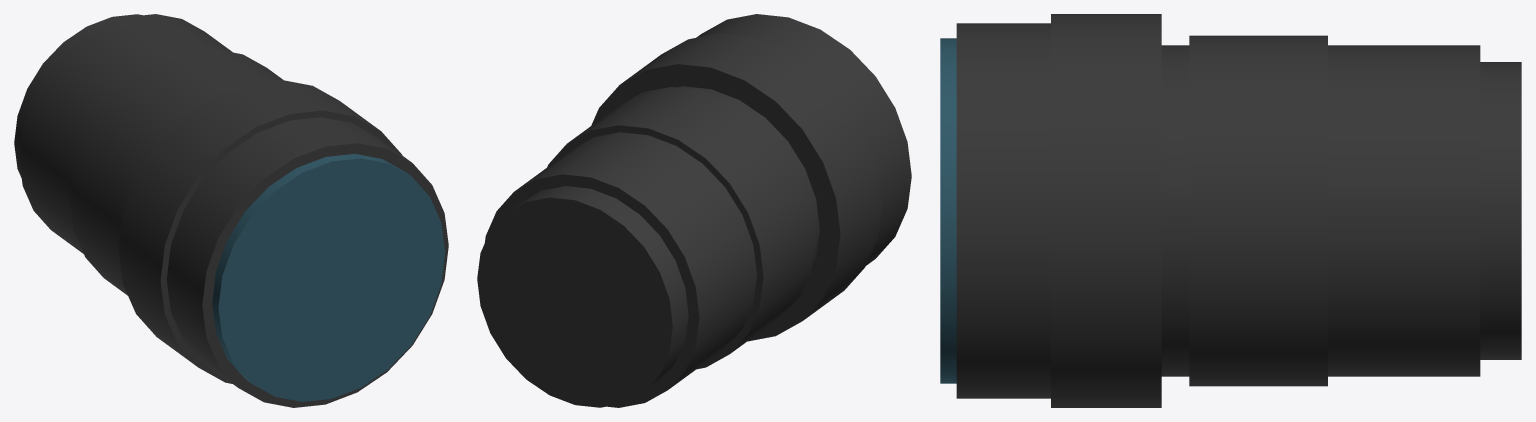
Rendered from ET-ELS20.glb.
3 views of the same model, side by side, from view 1: azimuth 30°, elevation 25°; view 2: azimuth 150°, elevation 25°; view 3: azimuth 270°, elevation 25° (orthographic). The views are drawn at different scales.
Visible parts, largest first — view 1: Lens_Barrel, Lens_Glass; view 2: Lens_Barrel; view 3: Lens_Barrel, Lens_Glass.
Boxes of the visible parts, x1,y1,x2,y2 form: Lens_Barrel: (14,14,448,407); Lens_Glass: (212,154,445,401); Lens_Barrel: (477,14,911,407); Lens_Barrel: (956,14,1521,407); Lens_Glass: (940,38,956,383).
Size of the model in its own units: 0.1214 by 0.1214 by 0.1785.
